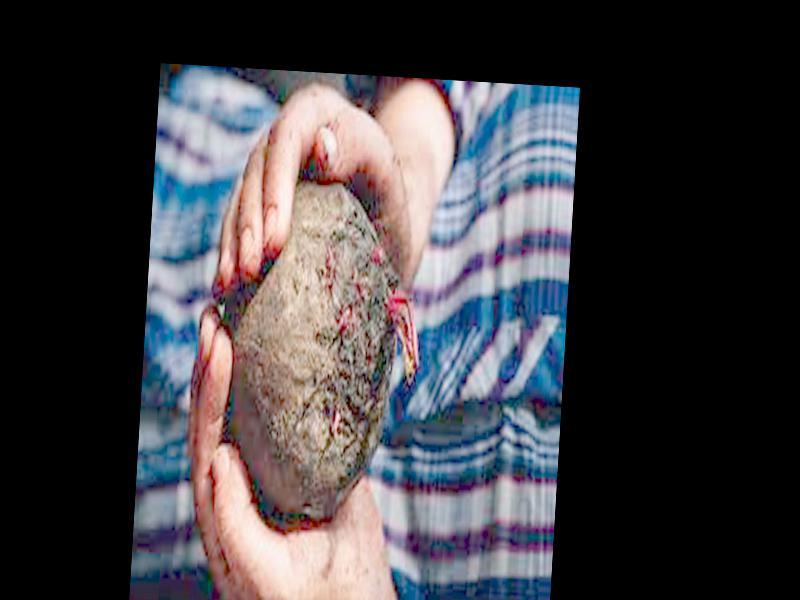Beet: (219, 178, 429, 528)
